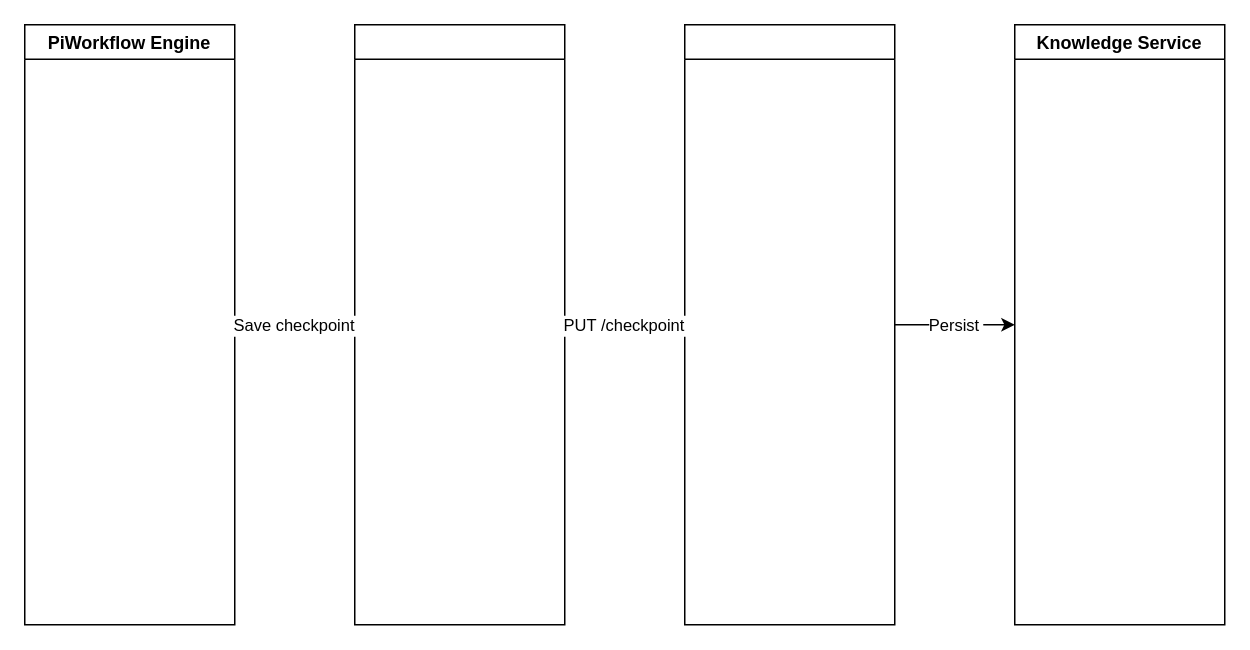
The diagram is 1250 pixels wide and 650 high, and some of its shapes have lost their labels. The centre of each missing label's shape, as x and y in pixels:
"Checkpointer Adapter" belongs at (459,324).
"RemoteCheckpointer" belongs at (789,324).
